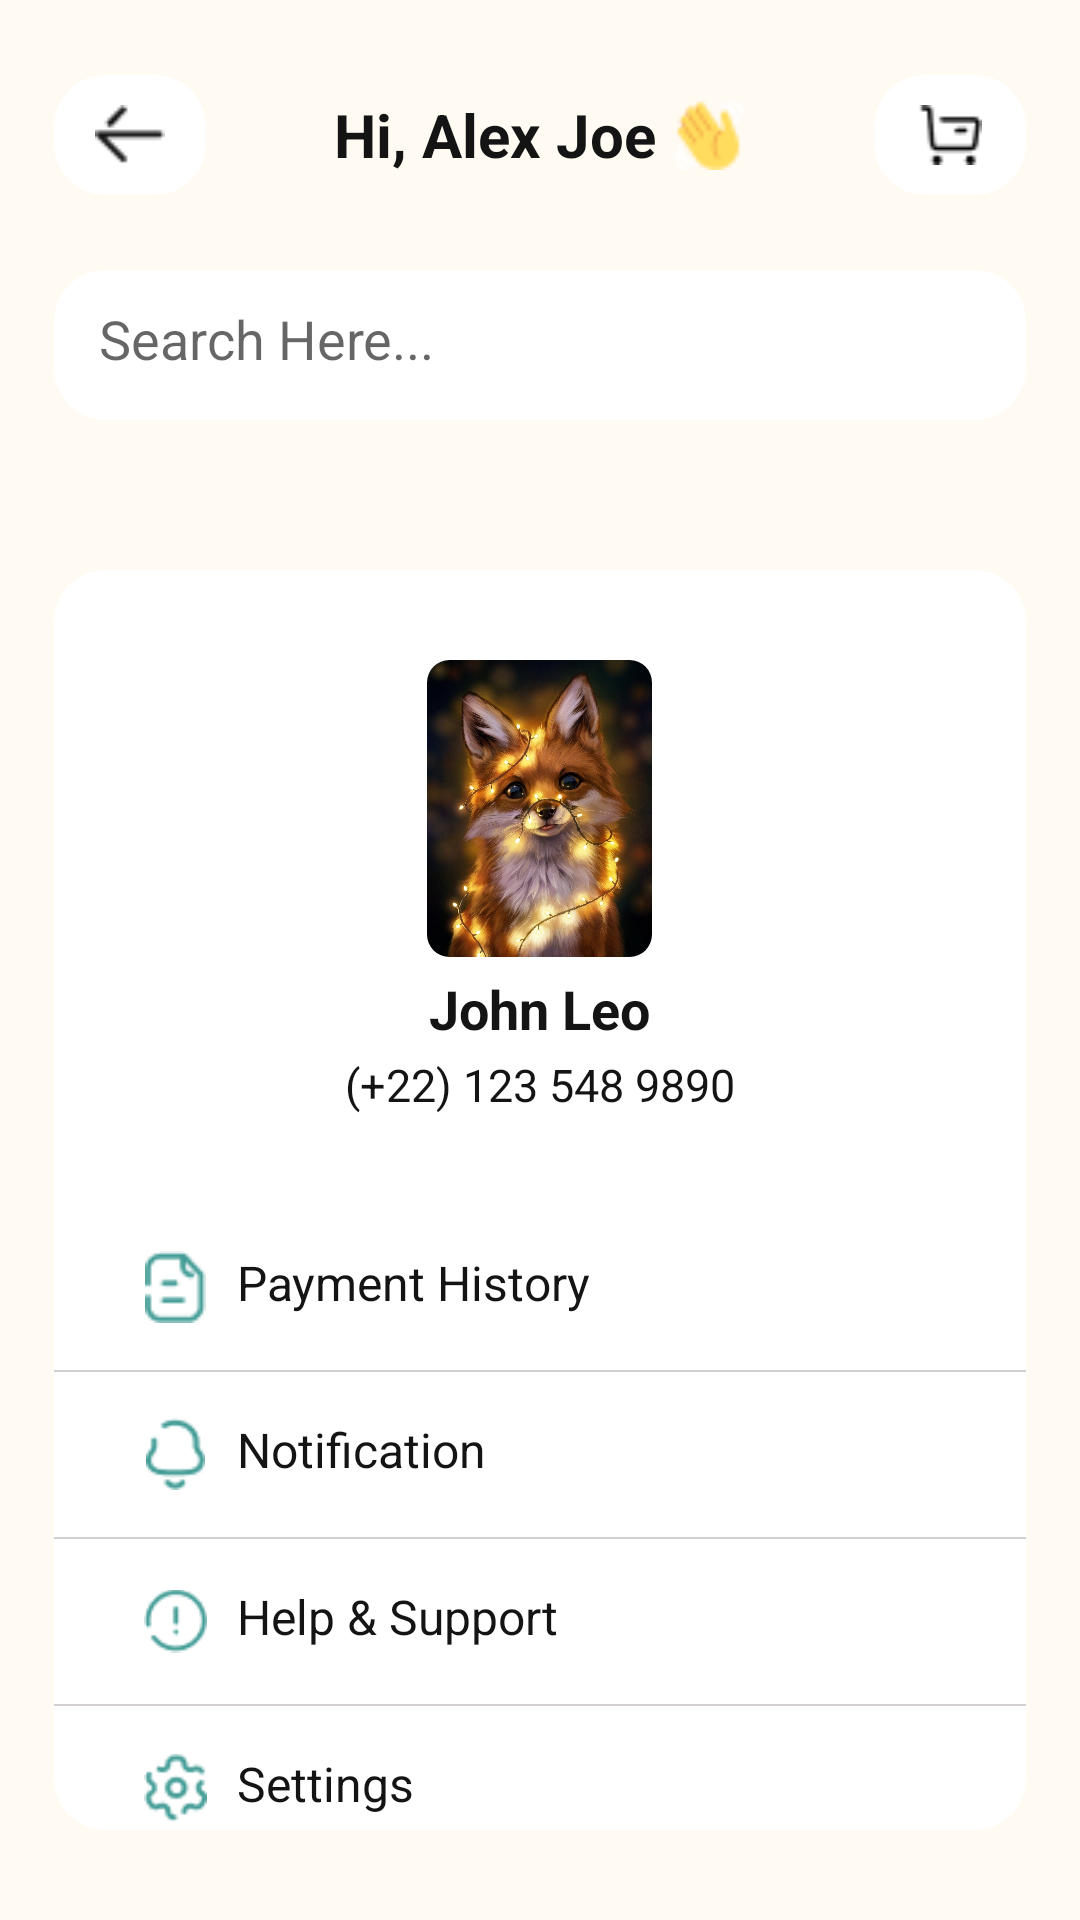

Icons on this 1080w x 1920h Android screen, each with its box as (x1, y1, x2, y2):
arrowback: (54, 75, 206, 195)
cart: (874, 75, 1026, 195)
helpicn: (144, 1590, 207, 1653)
hiemoji: (677, 101, 740, 170)
paymenticn: (145, 1252, 206, 1323)
settingicn: (144, 1754, 207, 1821)
